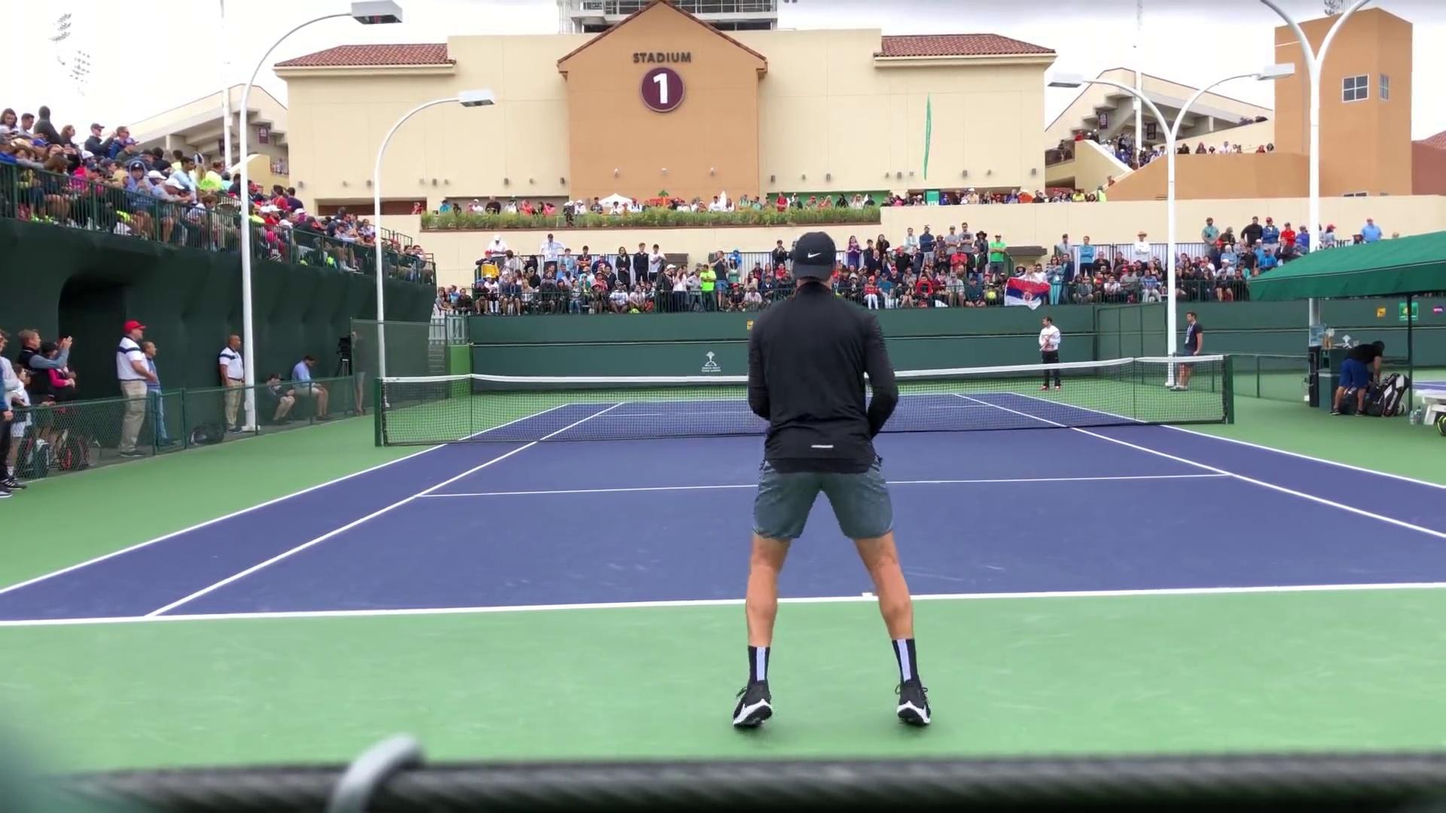ball: (438, 482, 446, 490)
